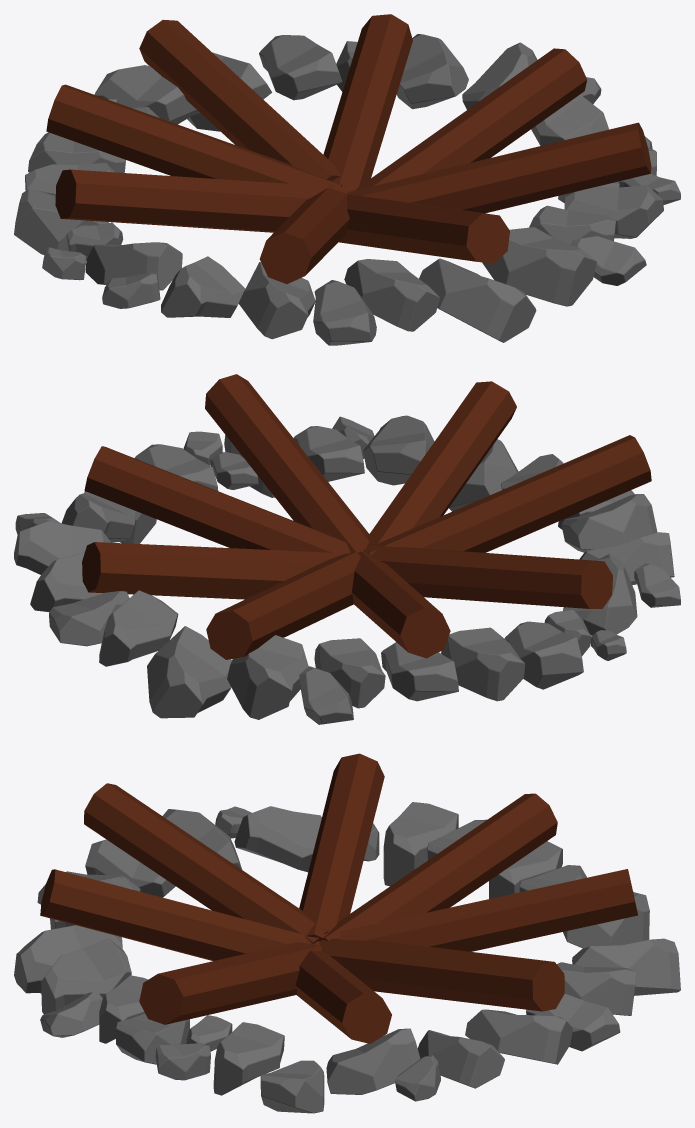
The model's file is ognisko.fbx.
3 views of the same model, one above another, from view 1: azimuth 30°, elevation 25°; view 2: azimuth 150°, elevation 25°; view 3: azimuth 270°, elevation 25° (orthographic).
Visible parts, largest first — view 1: drewno, kamienie; view 2: drewno, kamienie; view 3: drewno, kamienie.
Boxes of the visible parts, x1=… form: drewno: x1=46, y1=14, x2=651, y2=283; kamienie: x1=14, y1=34, x2=680, y2=345; drewno: x1=82, y1=374, x2=651, y2=659; kamienie: x1=14, y1=415, x2=680, y2=724; drewno: x1=40, y1=753, x2=637, y2=1043; kamienie: x1=14, y1=802, x2=680, y2=1113.
Size of the model in its own units: 90.59 by 19.14 by 90.37.
